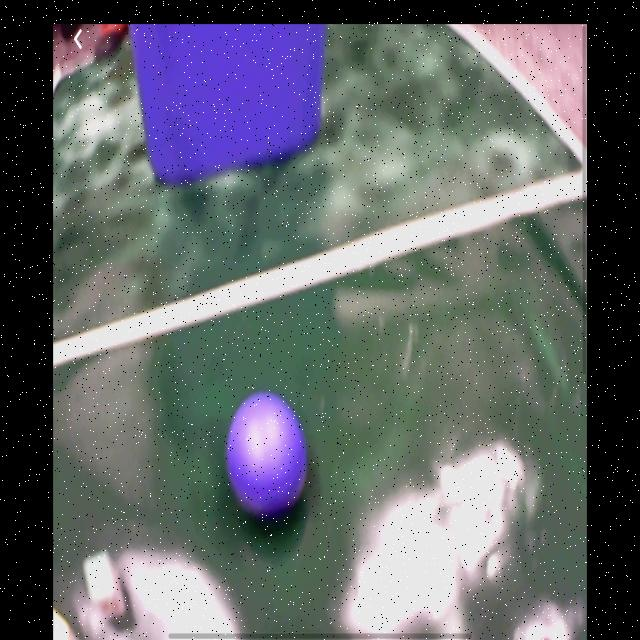ball: (226, 392, 306, 520)
